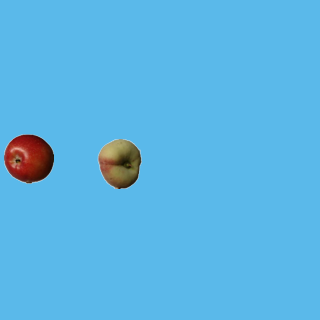Apple Braeburn: (3, 133, 53, 183)
Peach Flat: (94, 138, 144, 188)
